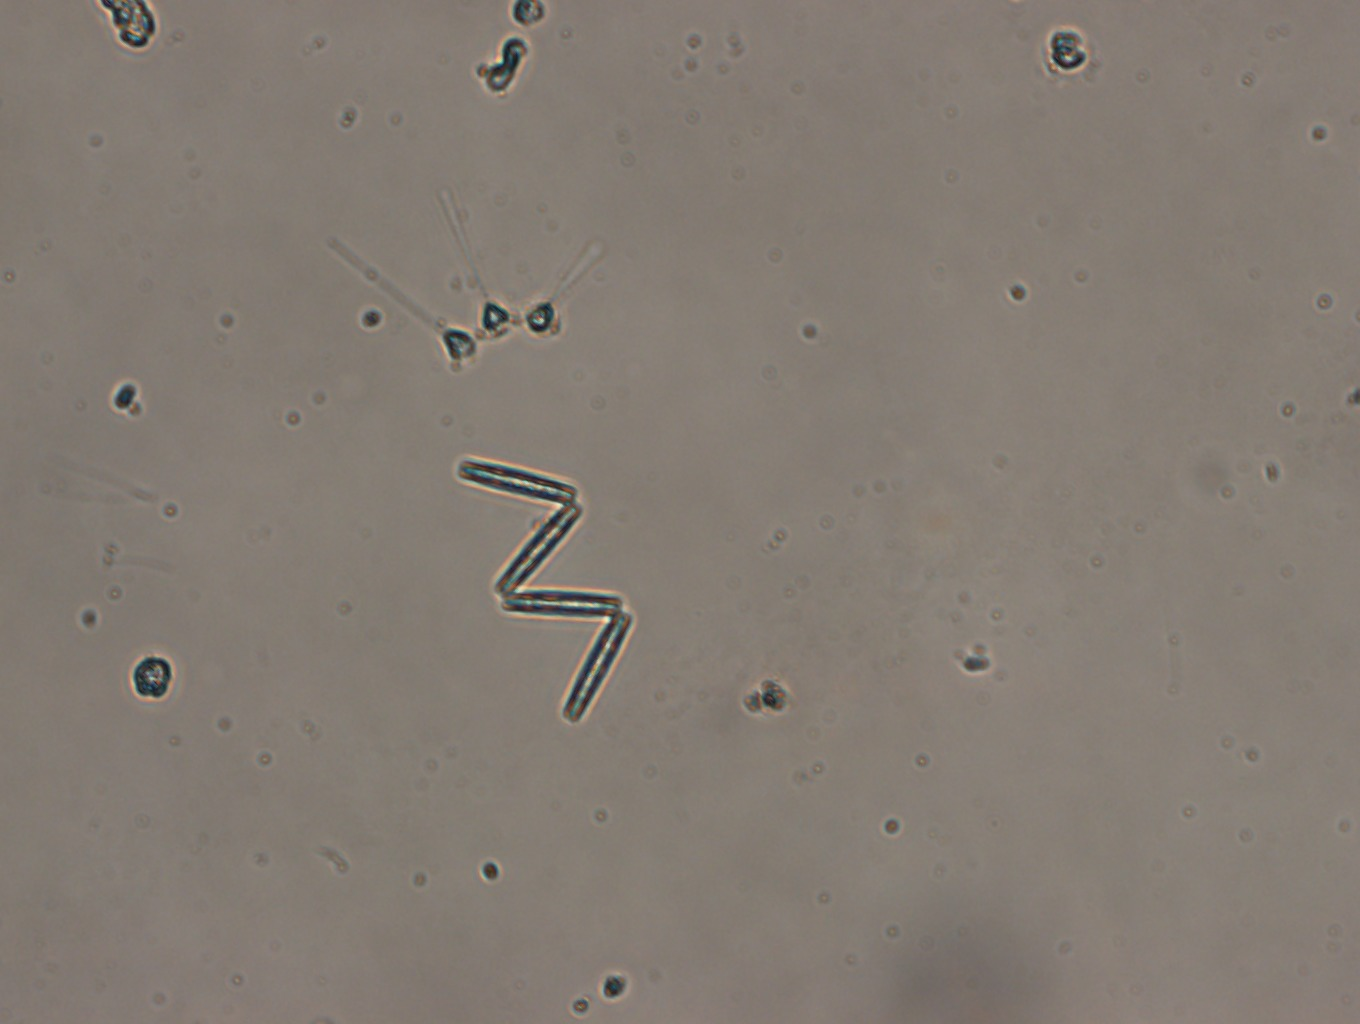thalassionema nitzschioides: (454, 455, 634, 722)
